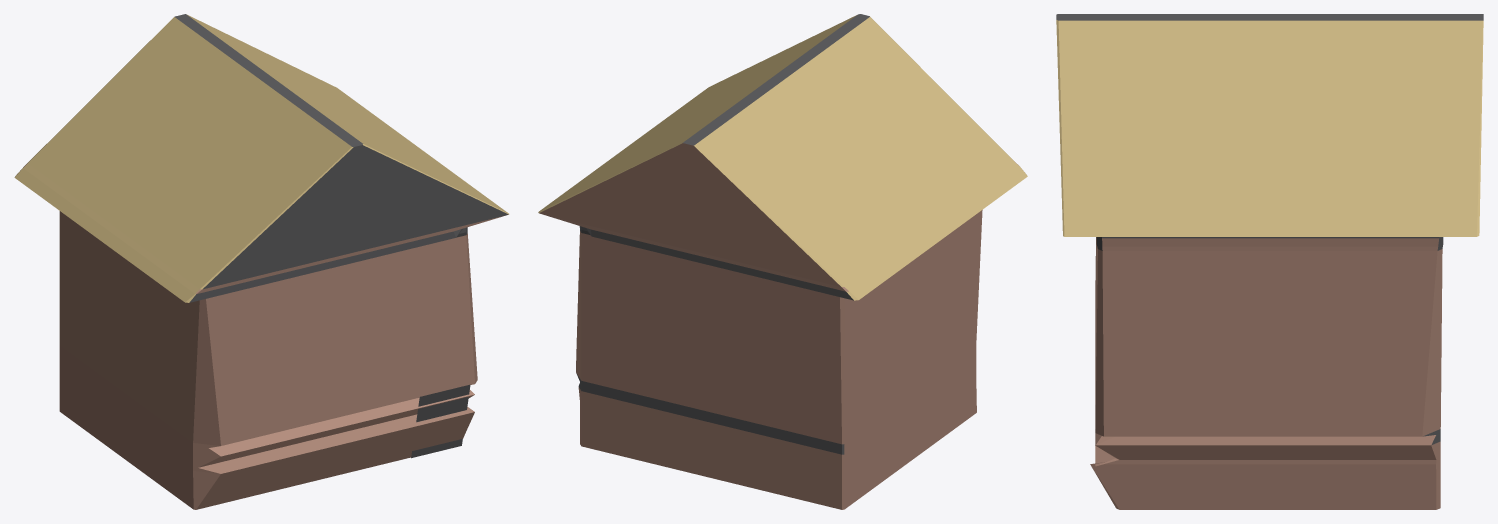
Rendered from loin.glb.
The picture shows the model from 3 angles, left to right: view 1: azimuth 30°, elevation 25°; view 2: azimuth 150°, elevation 25°; view 3: azimuth 270°, elevation 25°; orthographic projection. The views are drawn at different scales.
Visible parts, largest first — view 1: loin; view 2: loin; view 3: loin.
Part boxes in pixels (x1,y1,x2,y2): loin: [14, 14, 509, 509]; loin: [538, 14, 1027, 509]; loin: [1056, 14, 1483, 509].
Size of the model in its own units: 0.9168 by 0.9447 by 0.8766.
